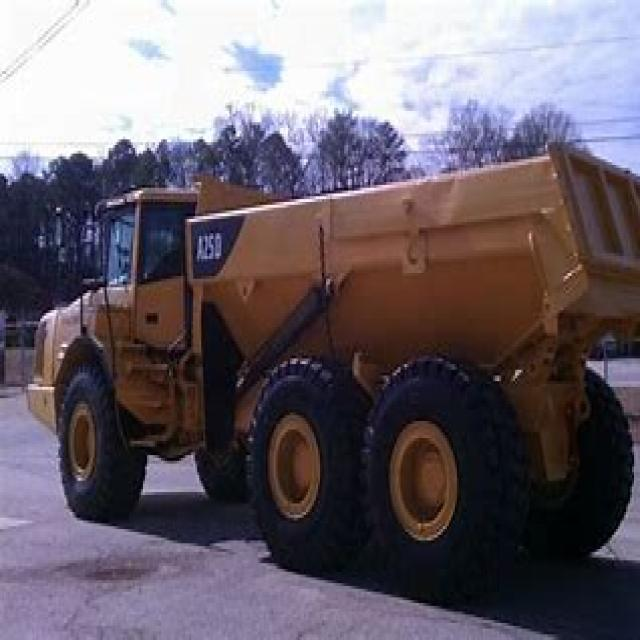dump_truck: (16, 148, 638, 586)
